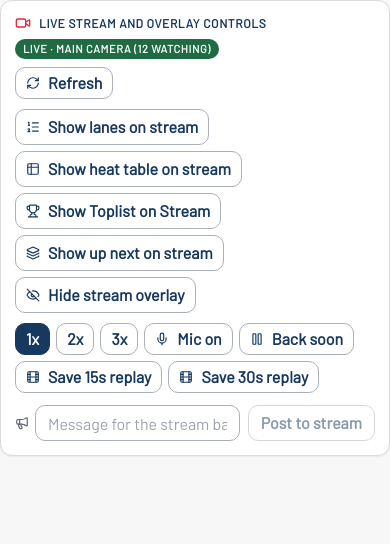
Test: retains a banner draft when the server rejects the overlay save
Step 1. Type "Example announcement" into the field named "Quick stream announcement" → coordinates (137, 423), box [35,405,240,441]
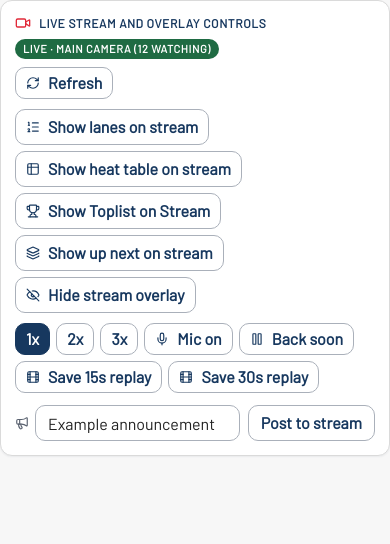
Step 2. Click the button "Post to stream" → coordinates (311, 423), box [248,405,375,441]
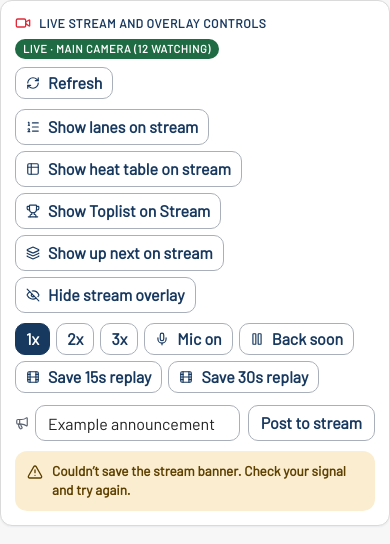
Expected: the message reads "Couldn’t save the stream banner. Check your signal and try again.", [52,462,346,498]
